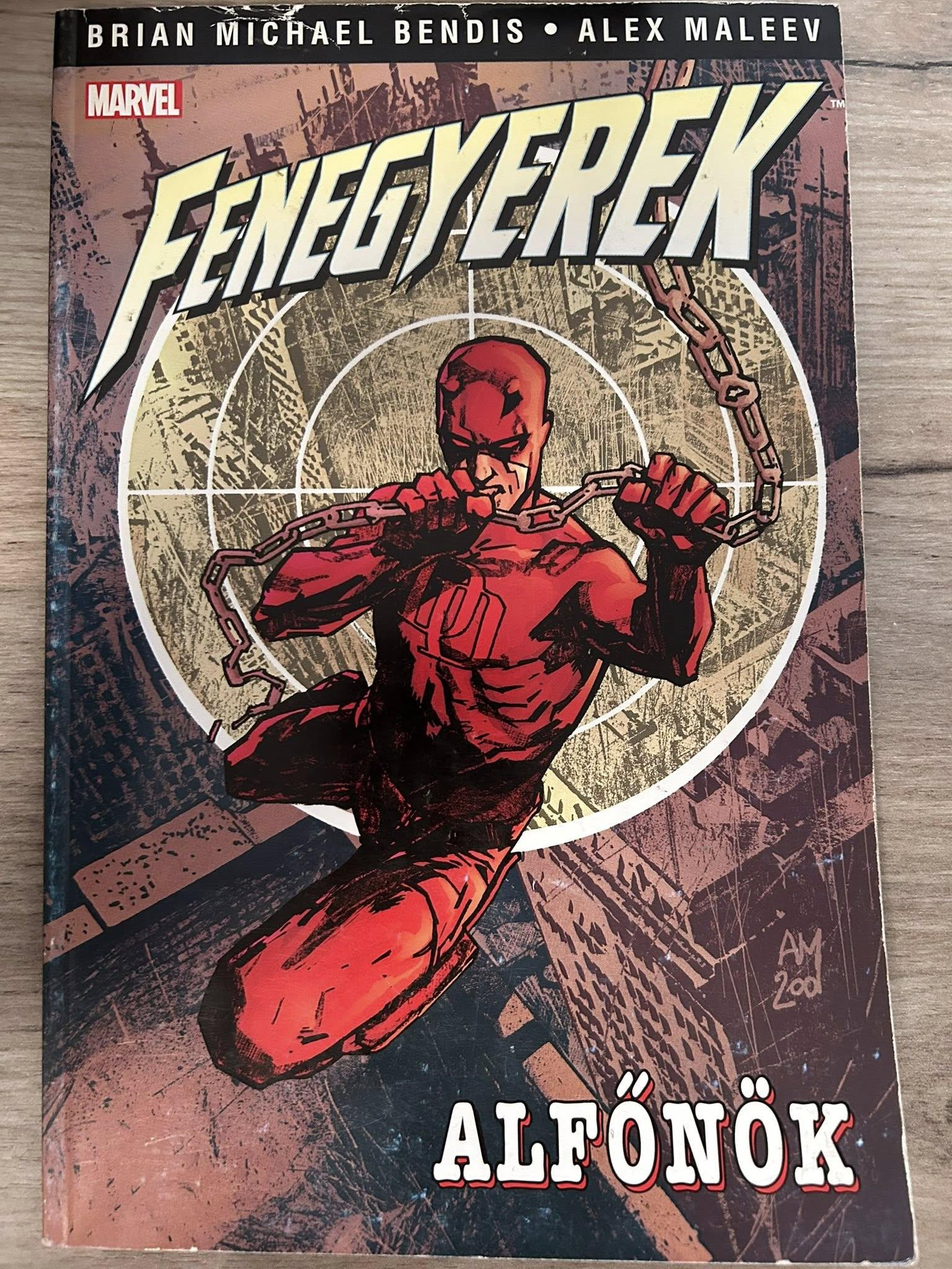comic: (44, 1, 918, 1262)
